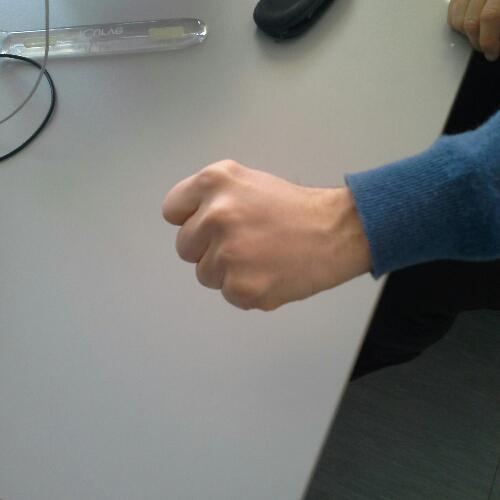rock: (150, 152, 342, 326)
